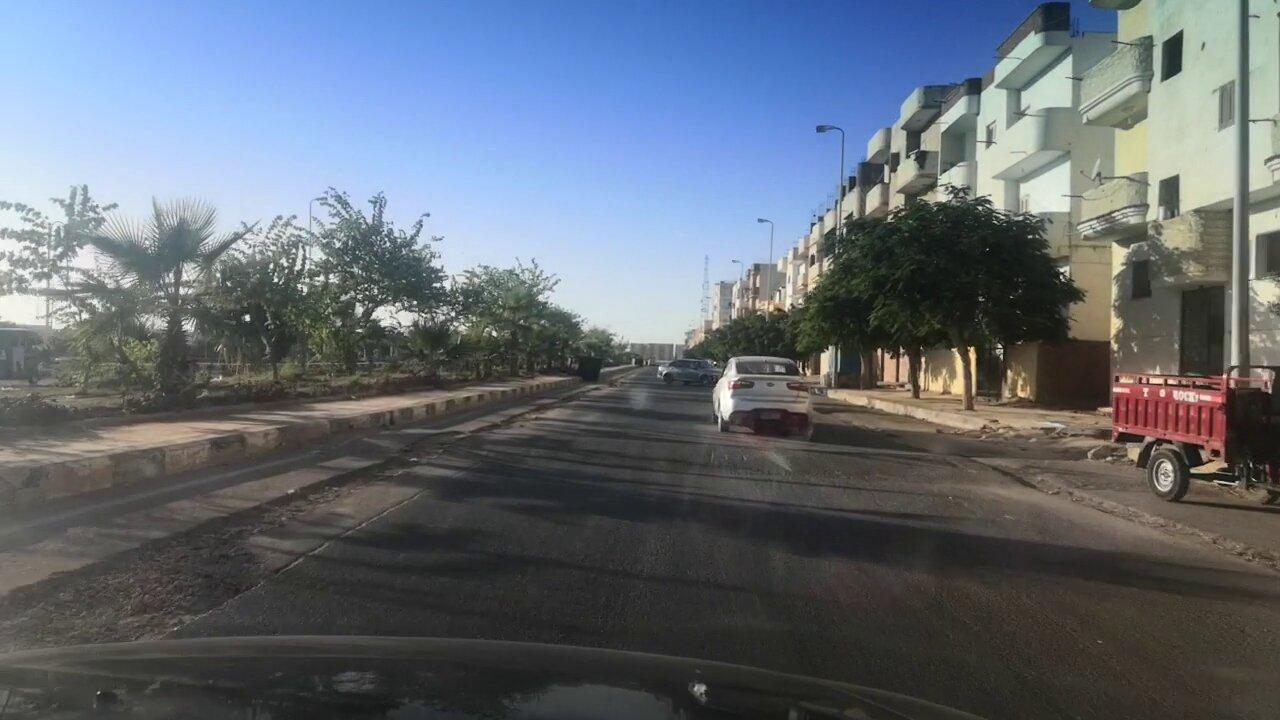Pothole: (33, 420, 482, 660)
